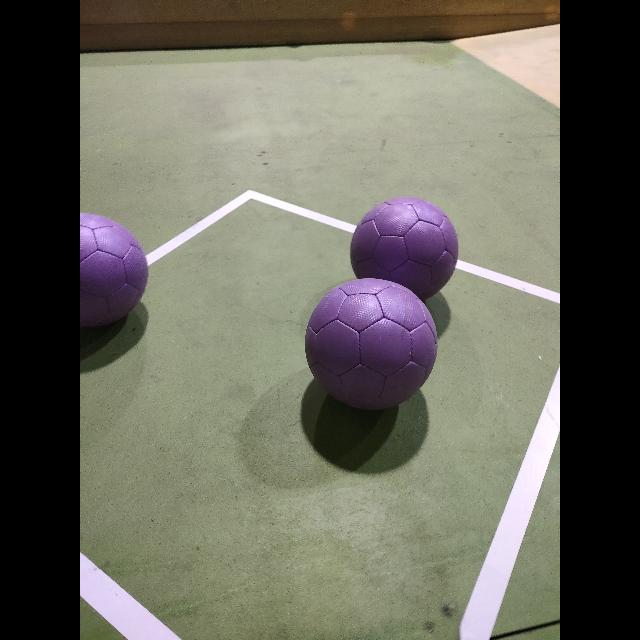P: (305, 278, 437, 408), (352, 198, 464, 306), (80, 213, 148, 327)
